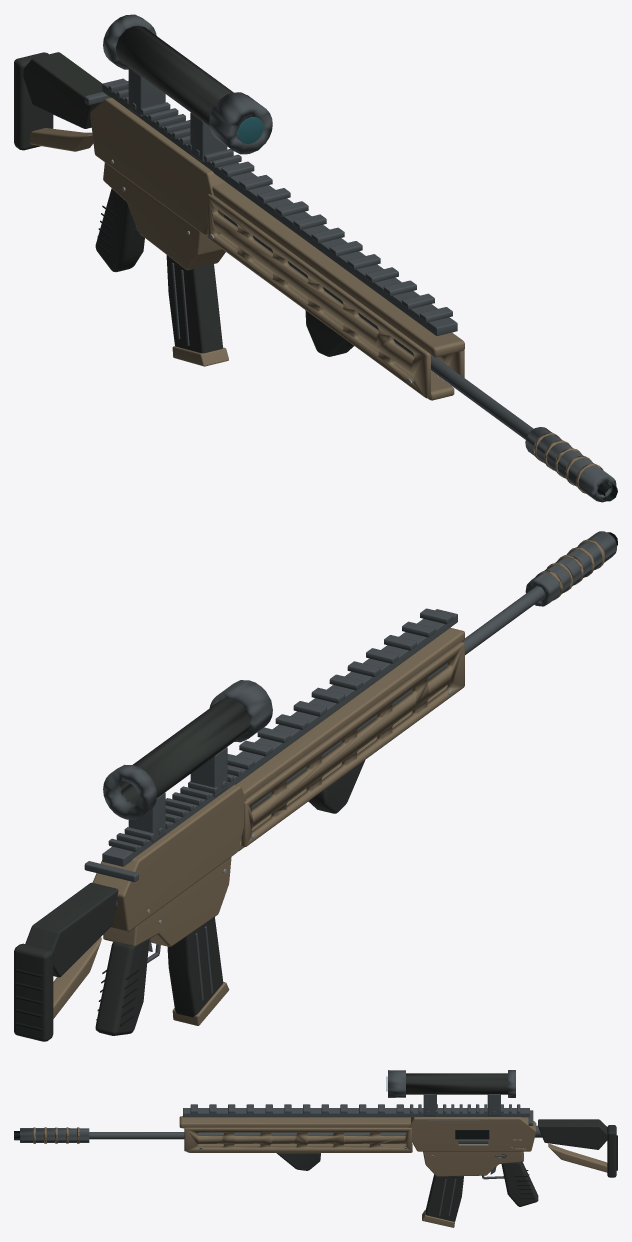
File: m2_marksman.glb
3 renders of one model, top to bottom at view 1: azimuth 30°, elevation 25°; view 2: azimuth 150°, elevation 25°; view 3: azimuth 270°, elevation 25°, orthographic. The views are drawn at different scales.
Visible parts, largest first — view 1: m2_marksman_nc7_coating, m2_marksman_nc7_alloy, m2_marksman_nc7_polymer; view 2: m2_marksman_nc7_coating, m2_marksman_nc7_polymer, m2_marksman_nc7_alloy, m2_marksman_nc7_dark; view 3: m2_marksman_nc7_coating, m2_marksman_nc7_alloy, m2_marksman_nc7_polymer, m2_marksman_nc7_dark.
Boxes of the visible parts, x1,y1,x2,y2 form: m2_marksman_nc7_coating: (29,97,603,493); m2_marksman_nc7_alloy: (84,14,616,502); m2_marksman_nc7_polymer: (14,25,353,356); m2_marksman_nc7_coating: (53,539,605,1025); m2_marksman_nc7_polymer: (14,698,365,1041); m2_marksman_nc7_alloy: (84,531,616,1000); m2_marksman_nc7_dark: (14,532,617,1030); m2_marksman_nc7_coating: (33,1116,607,1227); m2_marksman_nc7_alloy: (20,1070,542,1216); m2_marksman_nc7_polymer: (276,1073,616,1221); m2_marksman_nc7_dark: (14,1130,617,1198).
Bounding box in the file's own units: 0.076 × 0.4222 × 1.51.
